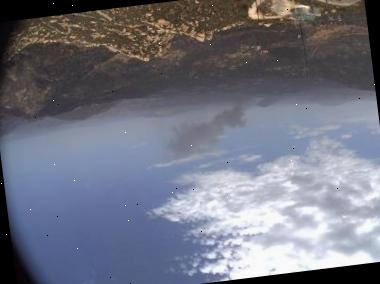smoke: (155, 88, 272, 166)
